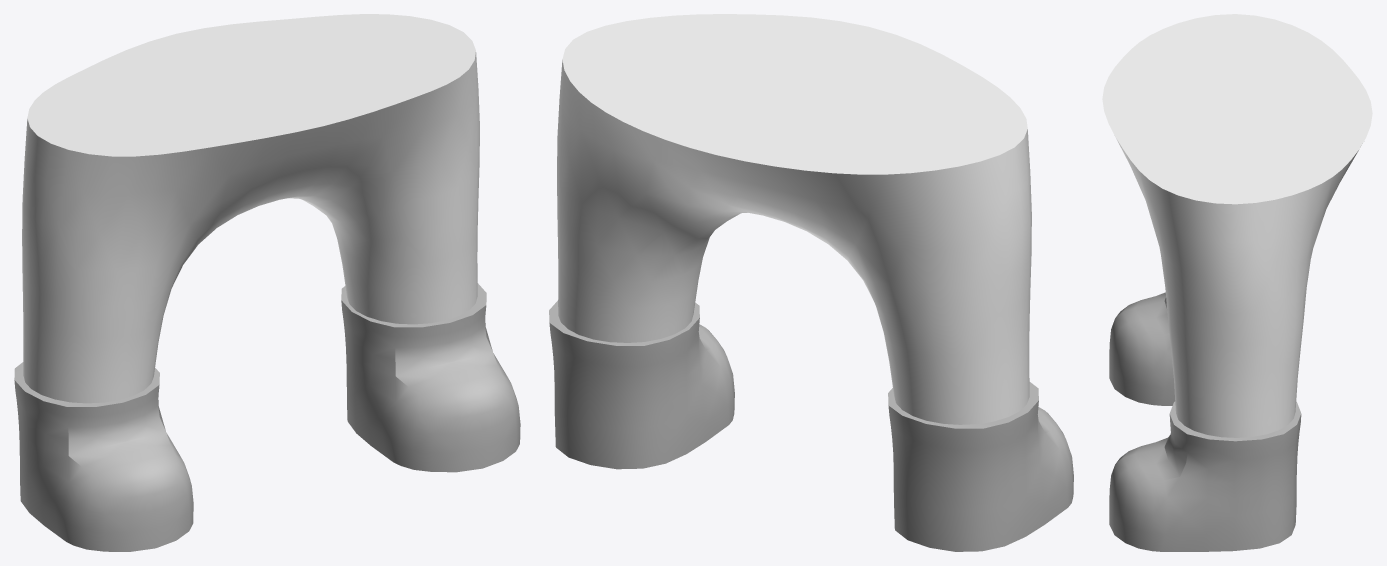
The model's file is 13宇航裤.fbx.
The picture shows the model from 3 angles, left to right: view 1: azimuth 30°, elevation 25°; view 2: azimuth 150°, elevation 25°; view 3: azimuth 270°, elevation 25°; orthographic projection. The views are drawn at different scales.
Visible parts, largest first — view 1: 13宇航裤; view 2: 13宇航裤; view 3: 13宇航裤.
Part boxes in pixels (x1=…): 13宇航裤: x1=14, y1=14, x2=520, y2=551; 13宇航裤: x1=549, y1=14, x2=1073, y2=551; 13宇航裤: x1=1102, y1=14, x2=1372, y2=551.
Size of the model in its own units: 0.6253 by 0.5103 by 0.3539.
